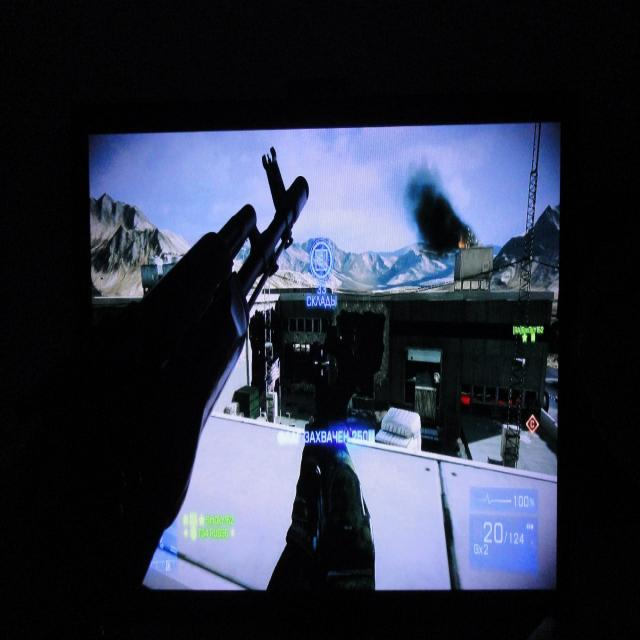firearm: (142, 145, 310, 586)
